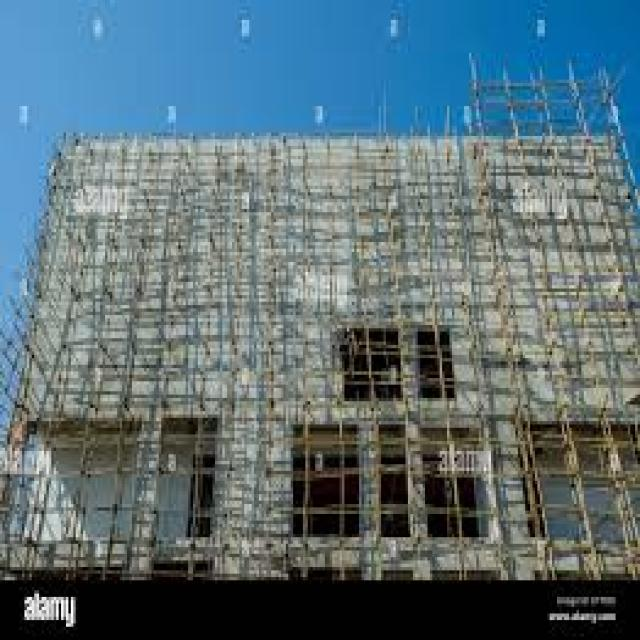Exterior Finishing: (21, 133, 614, 519)
Framing: (471, 56, 632, 209)
